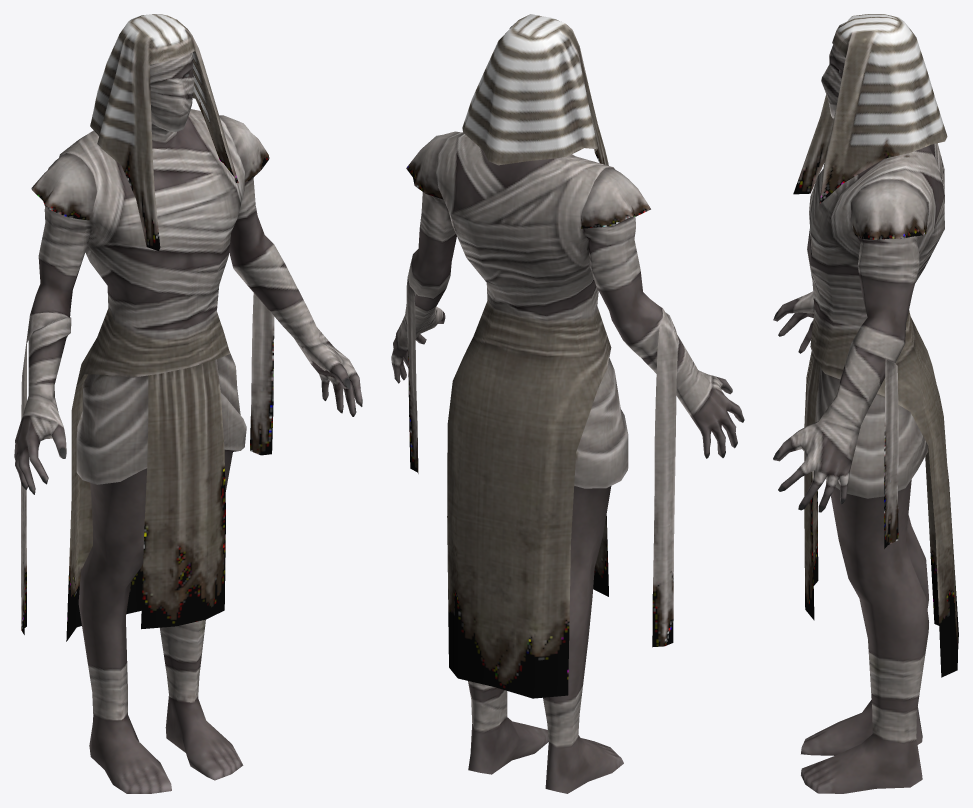
File: 101-mummy.glb
The picture shows the model from 3 angles, left to right: view 1: azimuth 30°, elevation 25°; view 2: azimuth 150°, elevation 25°; view 3: azimuth 270°, elevation 25°; orthographic projection.
Size of the model in its own units: 1.73 by 3.65 by 0.8245.
Materials: 1 (1 with a texture image).
